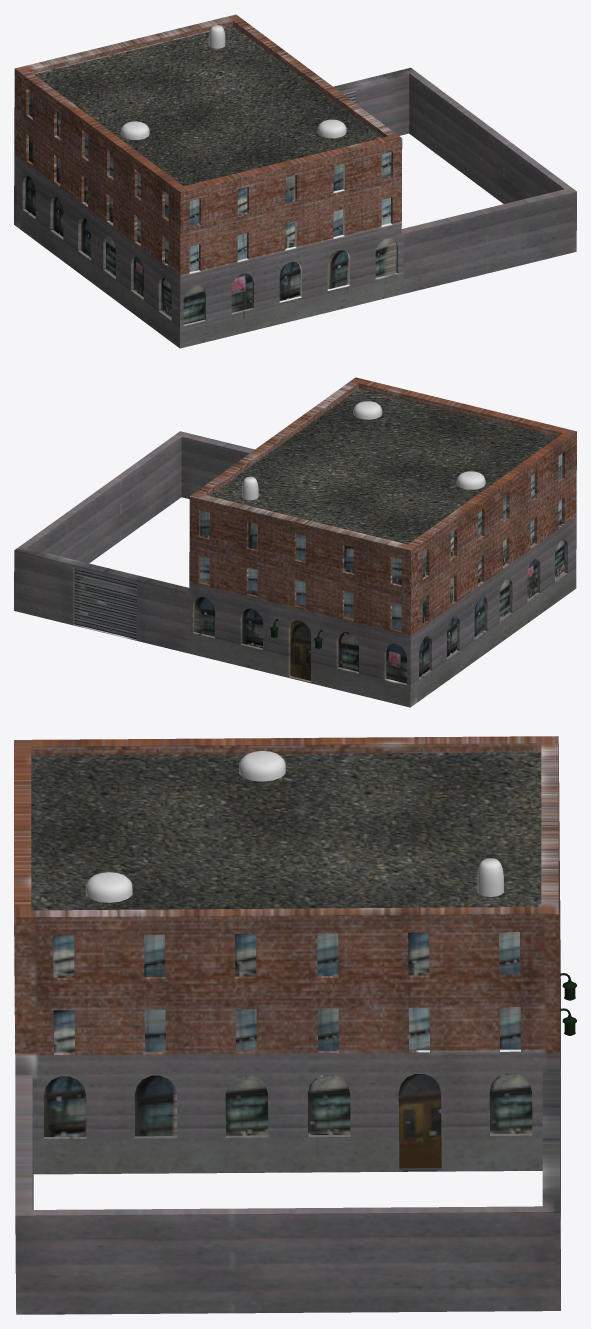
3 views of the same model, one above another, from view 1: azimuth 30°, elevation 25°; view 2: azimuth 150°, elevation 25°; view 3: azimuth 270°, elevation 25° (orthographic). The views are drawn at different scales.
Visible parts, largest first — view 1: 10082_Police_Station_V1_L3; view 2: 10082_Police_Station_V1_L3; view 3: 10082_Police_Station_V1_L3.
Boxes of the visible parts, box(x1,y1,x2,y2) form: 10082_Police_Station_V1_L3: box(14, 14, 576, 348); 10082_Police_Station_V1_L3: box(14, 377, 576, 707); 10082_Police_Station_V1_L3: box(14, 736, 576, 1314).
Size of the model in its own units: 25.31 by 10.44 by 18.96.
